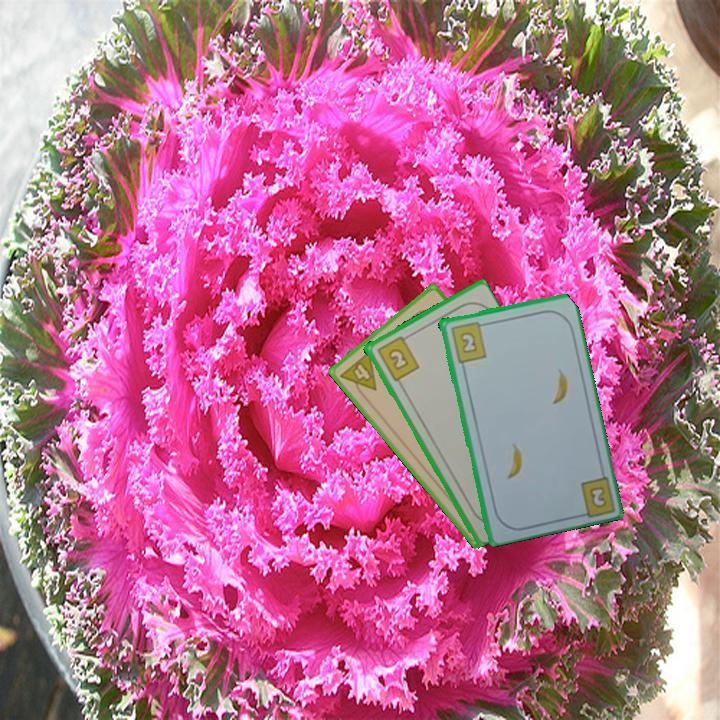2b: (373, 331, 422, 384), (447, 318, 489, 365), (586, 483, 609, 511)
4p: (336, 347, 380, 402)
